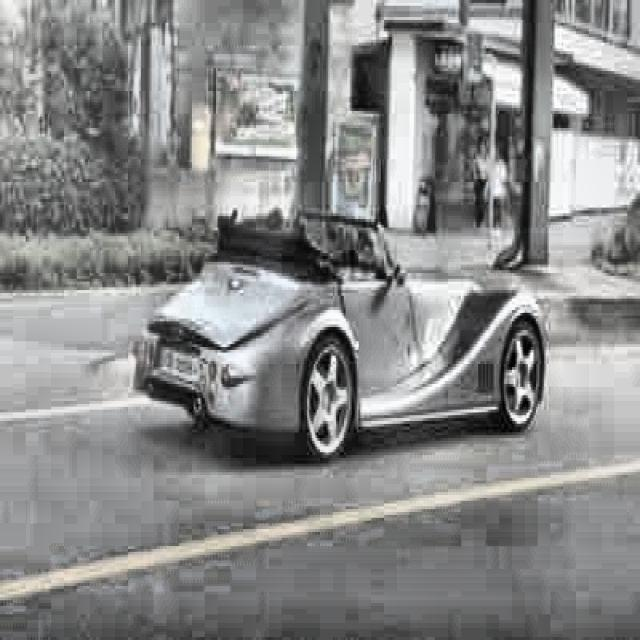license_plate: (158, 345, 200, 382)
